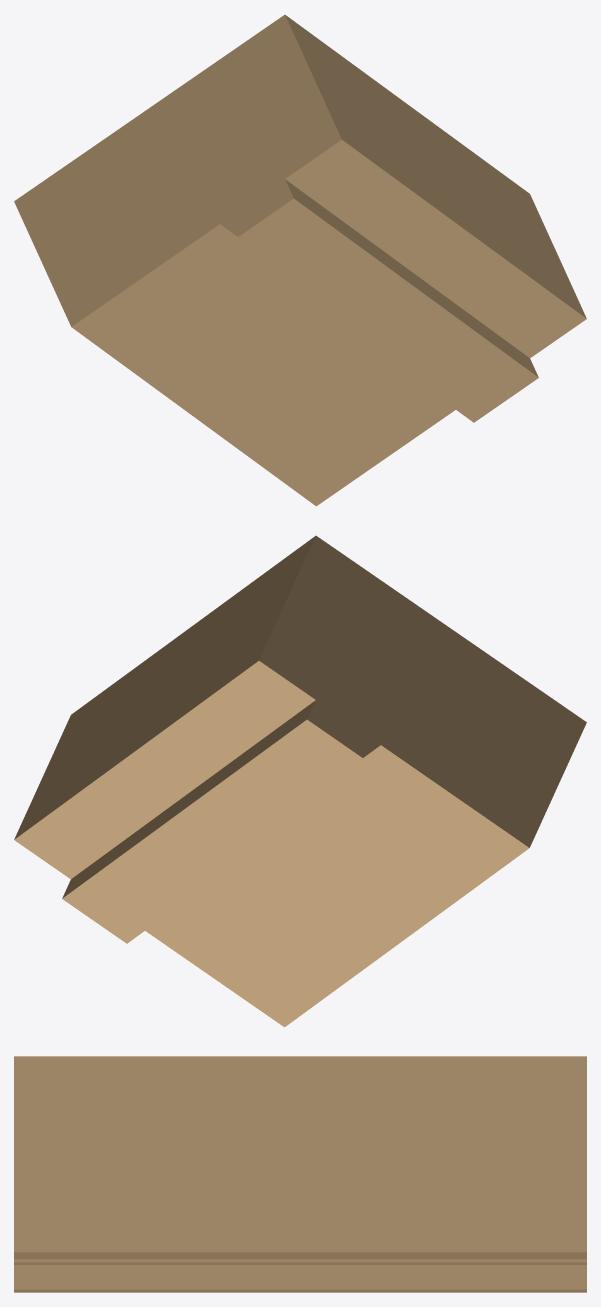
3 views of the same model, one above another, from view 1: azimuth 30°, elevation 25°; view 2: azimuth 150°, elevation 25°; view 3: azimuth 270°, elevation 25° (orthographic). The views are drawn at different scales.
Parts seen in each view (by area): view 1: 0_1_0_2_2_1_1_3_2; view 2: 0_1_0_2_2_1_1_3_2; view 3: 0_1_0_2_2_1_1_3_2.
Boxes of the visible parts, <box> form: 0_1_0_2_2_1_1_3_2: <box>14,14,586,506</box>; 0_1_0_2_2_1_1_3_2: <box>14,535,586,1027</box>; 0_1_0_2_2_1_1_3_2: <box>14,1056,586,1292</box>.
Bounding box in the file's own units: 18.54 × 14.07 × 24.
